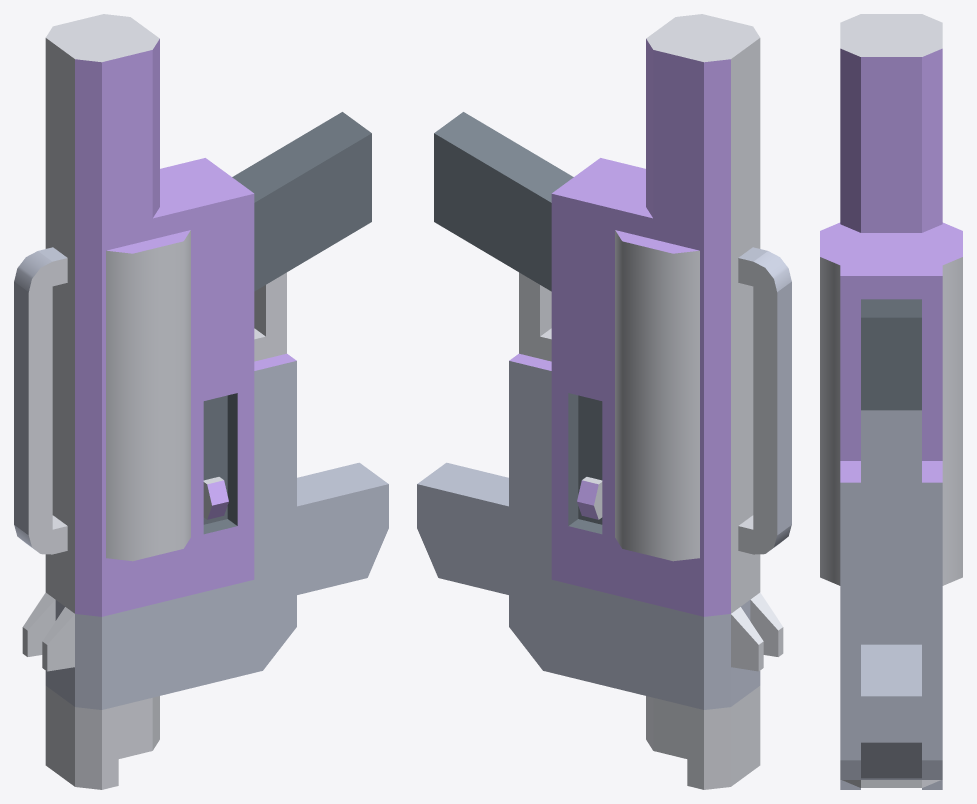
Rendered from blasterA.fbx.
3 views of the same model, side by side, from view 1: azimuth 30°, elevation 25°; view 2: azimuth 150°, elevation 25°; view 3: azimuth 270°, elevation 25° (orthographic). The views are drawn at different scales.
Parts seen in each view (by area): view 1: blasterA; view 2: blasterA; view 3: blasterA.
Boxes of the visible parts, left/top/right/bottom form: blasterA: left=14, top=14, right=388, bottom=789; blasterA: left=417, top=14, right=791, bottom=789; blasterA: left=820, top=14, right=962, bottom=789.
Bounding box in the file's own units: 0.4159 × 0.82 × 0.14.
